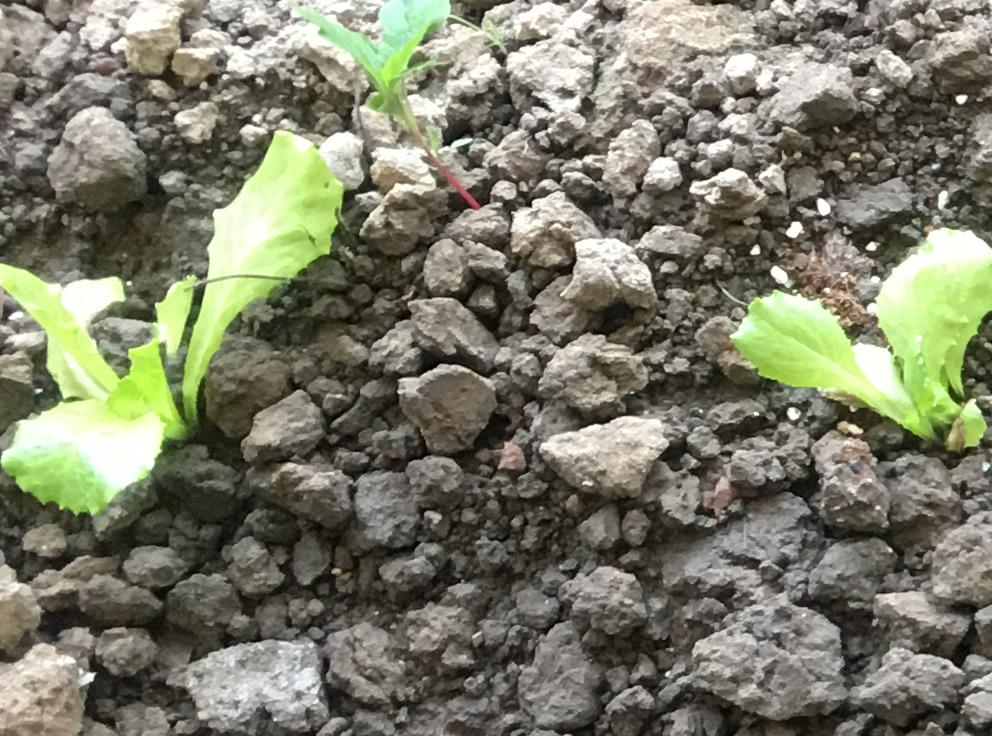block: (690, 596, 851, 720), (185, 643, 329, 729), (45, 109, 153, 208), (538, 416, 665, 498), (531, 335, 650, 413), (392, 363, 487, 454), (563, 236, 659, 313)
